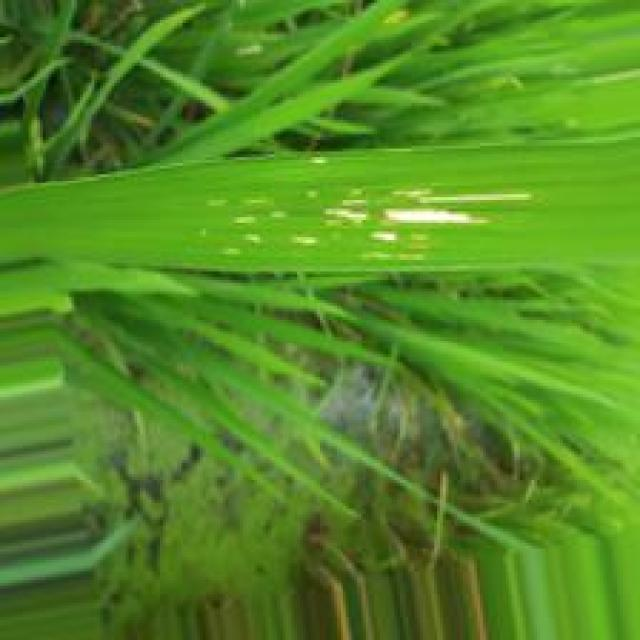Rice_Hispa: (389, 186, 533, 225)
